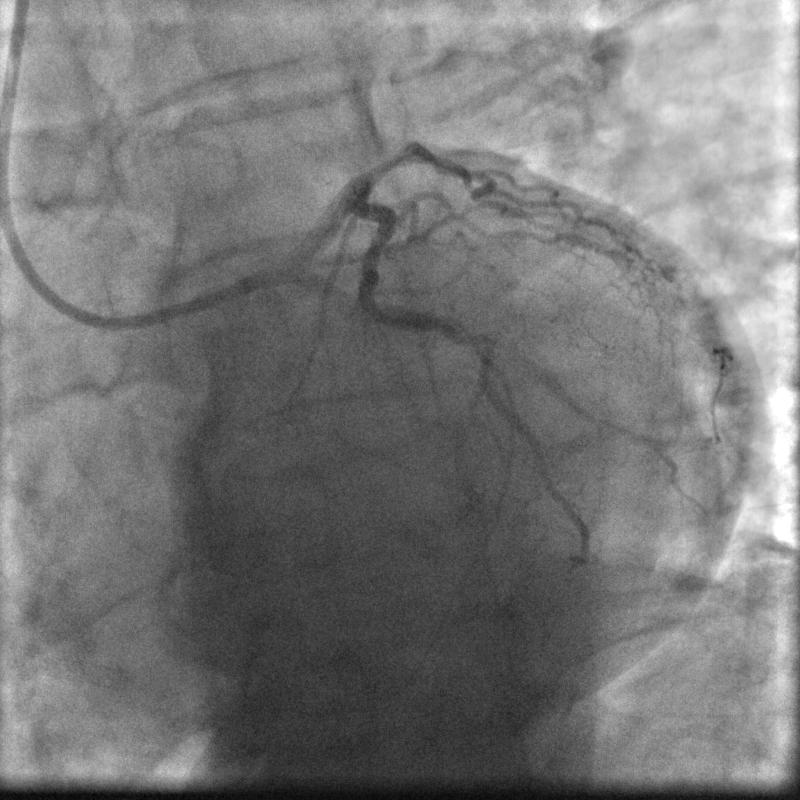Stenosis: (365, 141, 418, 180)
